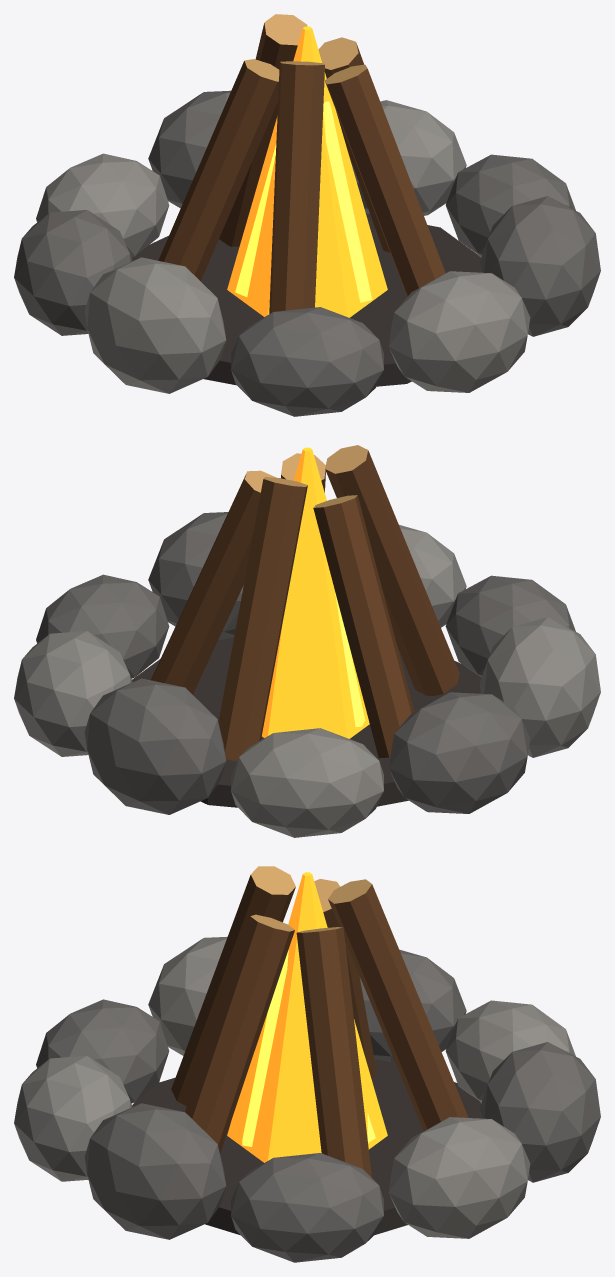
File: campfire.glb
3 renders of one model, top to bottom at view 1: azimuth 30°, elevation 25°; view 2: azimuth 150°, elevation 25°; view 3: azimuth 270°, elevation 25°, orthographic.
Parts seen in each view (by area): view 1: campfire; view 2: campfire; view 3: campfire.
Boxes of the visible parts, <box> form: campfire: <box>14,14,600,416</box>; campfire: <box>14,445,600,837</box>; campfire: <box>14,866,600,1262</box>.
Size of the model in its own units: 1.23 by 0.66 by 1.24.
